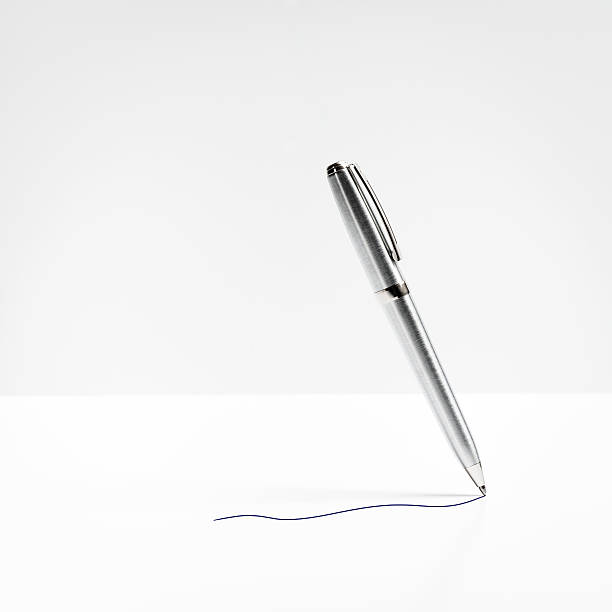pen: (318, 155, 506, 508)
